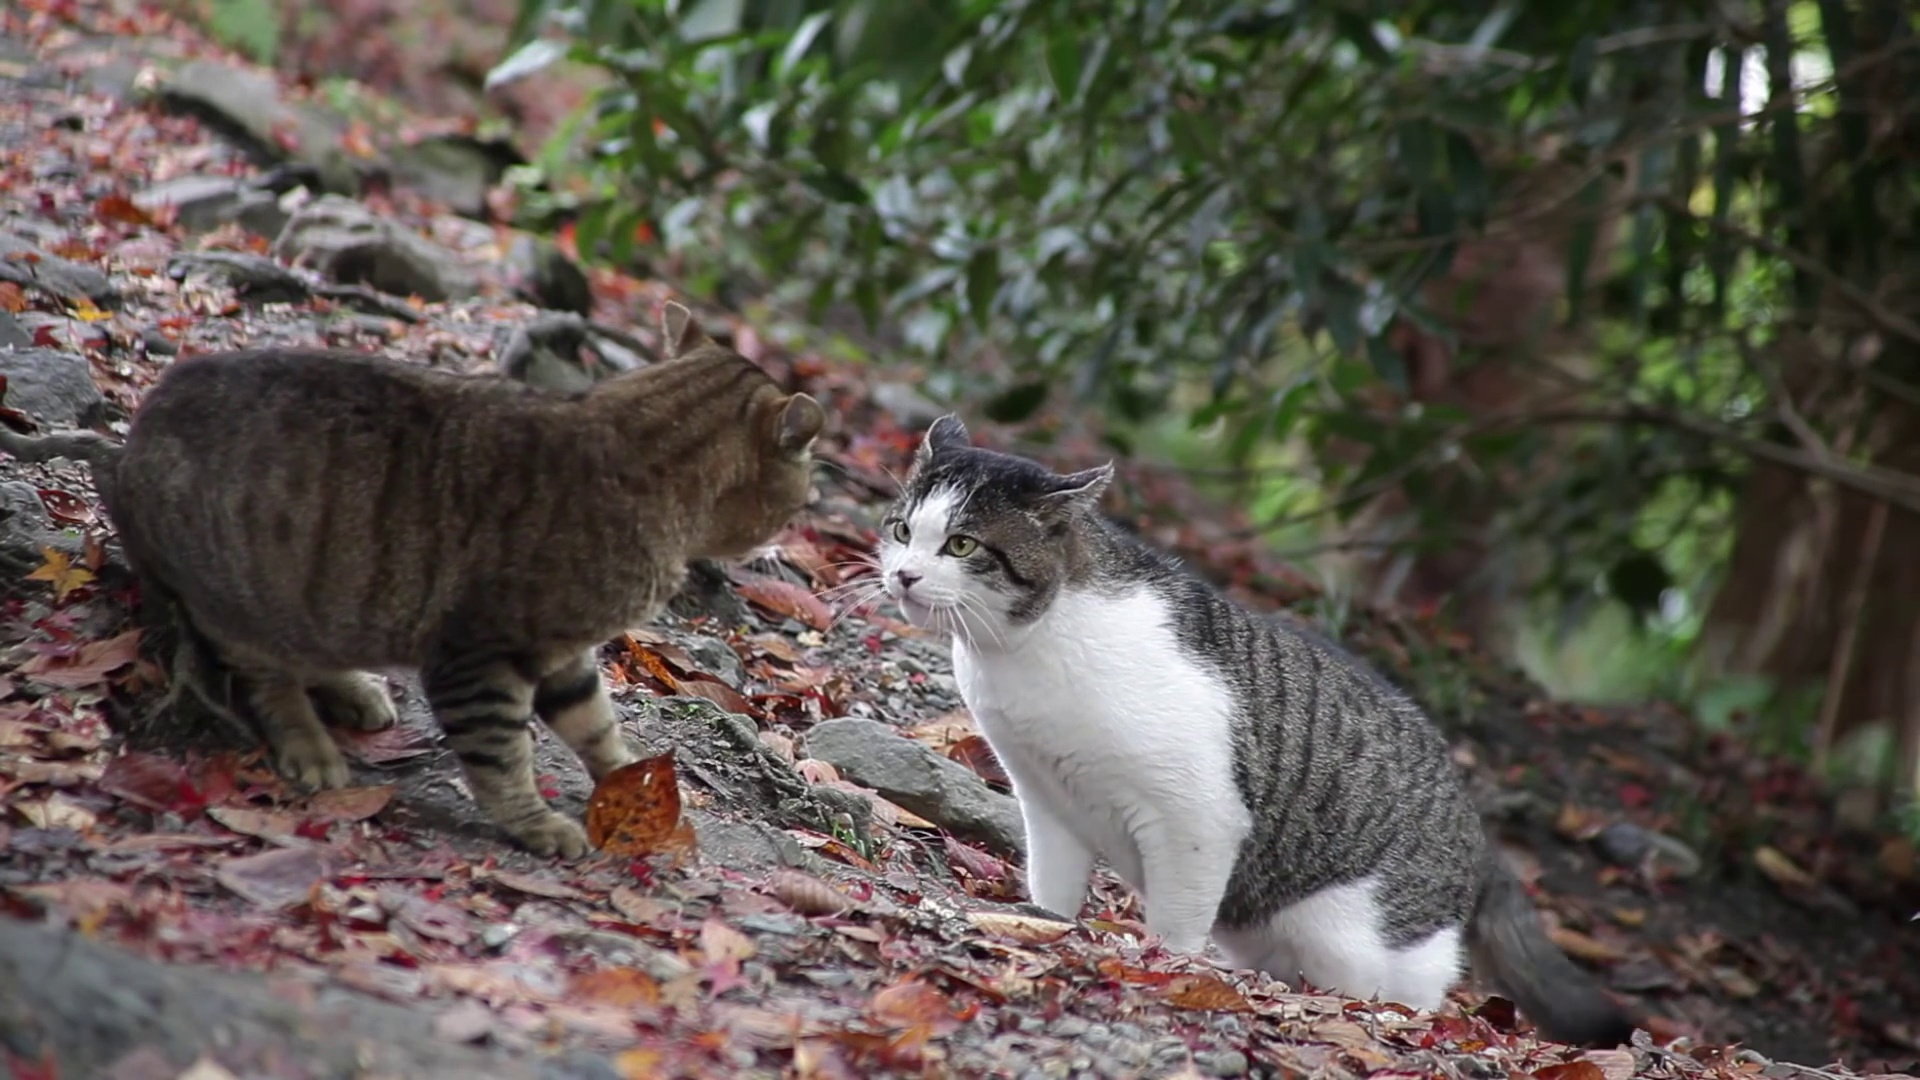black-white: (877, 414, 1640, 1040)
pure black: (117, 302, 825, 862)
